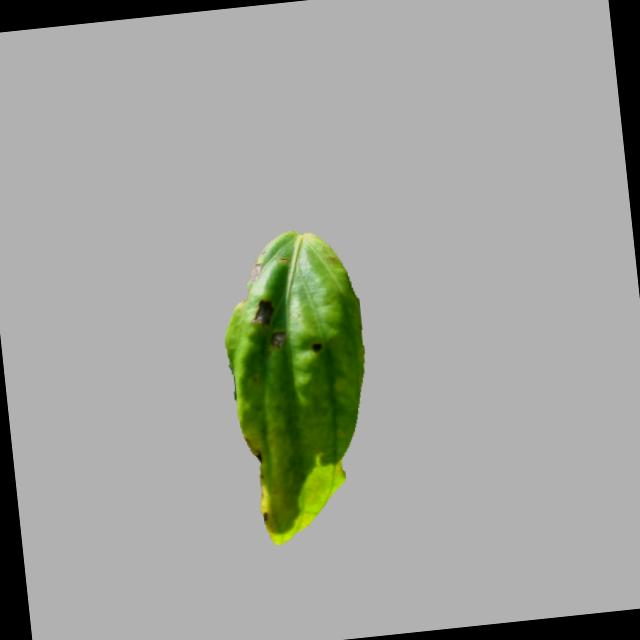yellow-mottle-virus: (209, 218, 386, 546)
